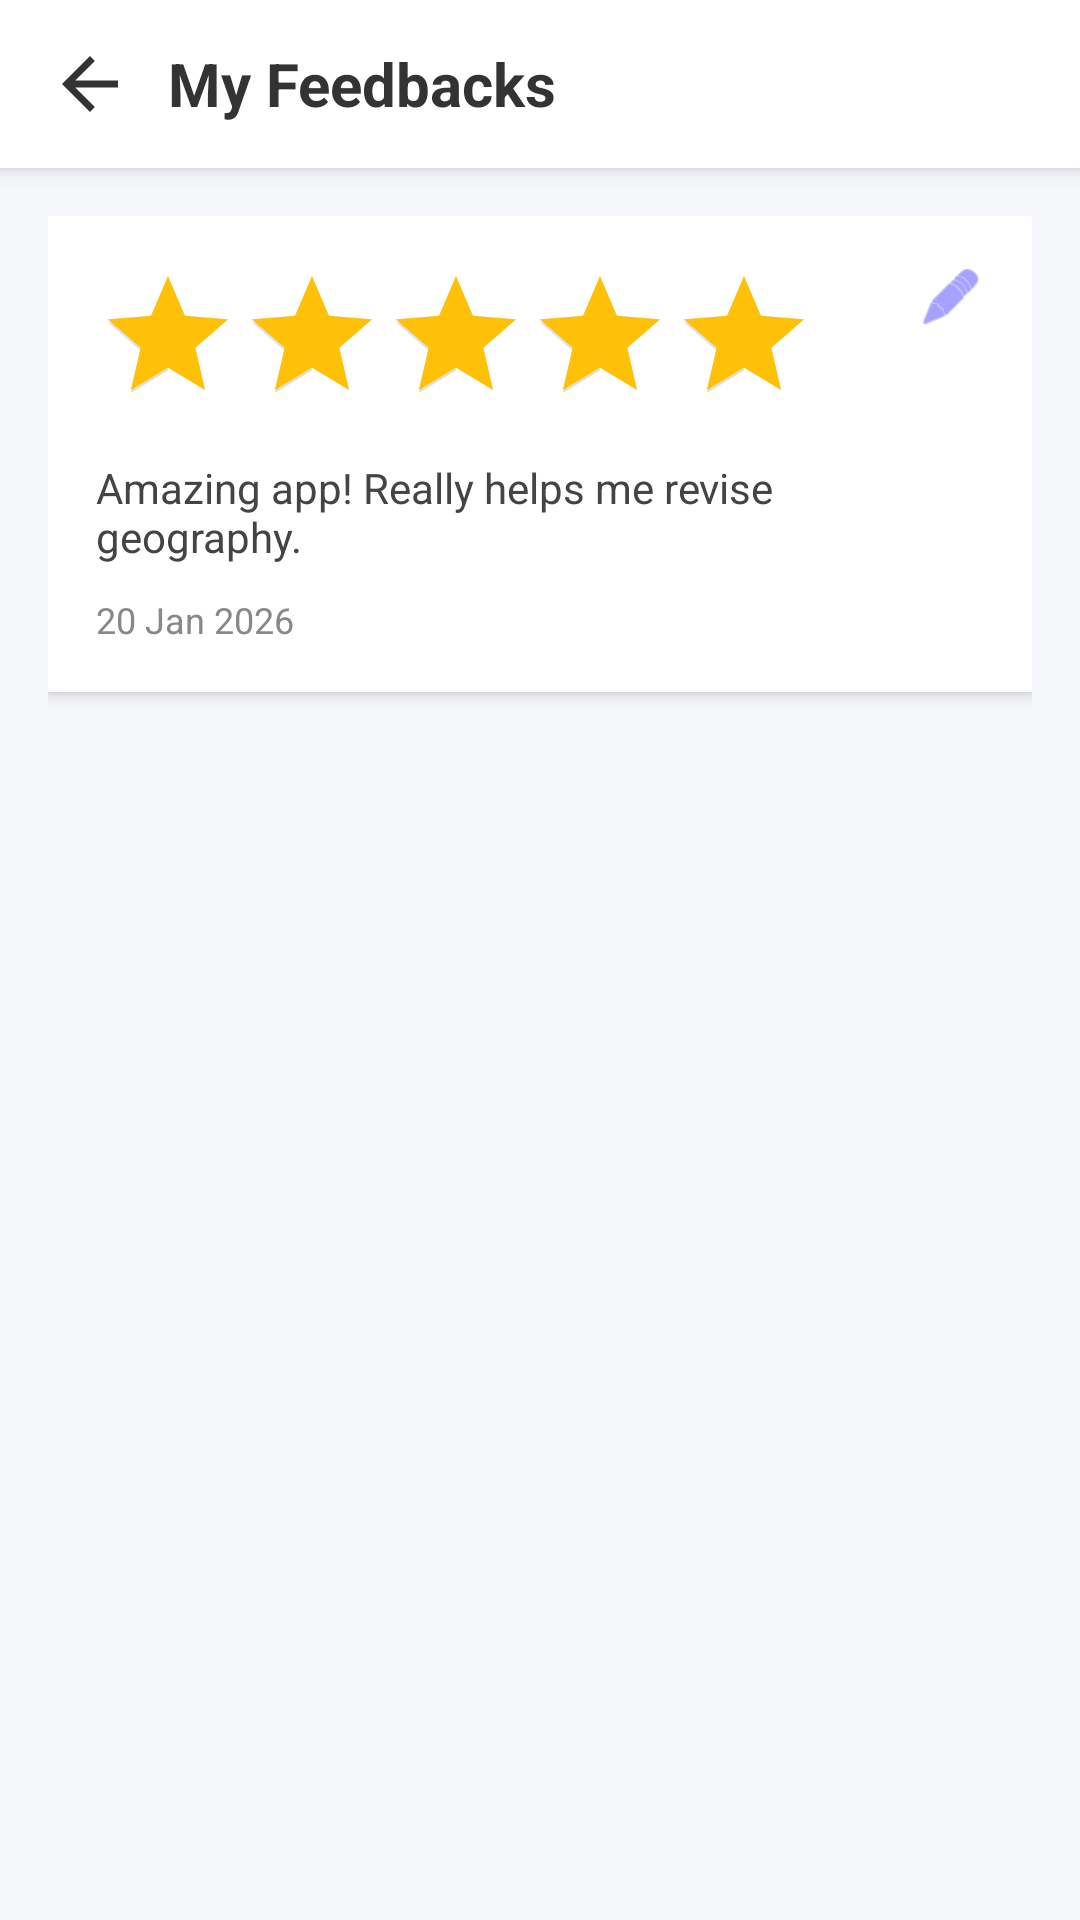

Icons on this 1080*1920 Android screen, each with its box as [x1=x1, y1=y1, x2=x2, y2=y2]:
edit: [x1=923, y1=269, x2=979, y2=324]
